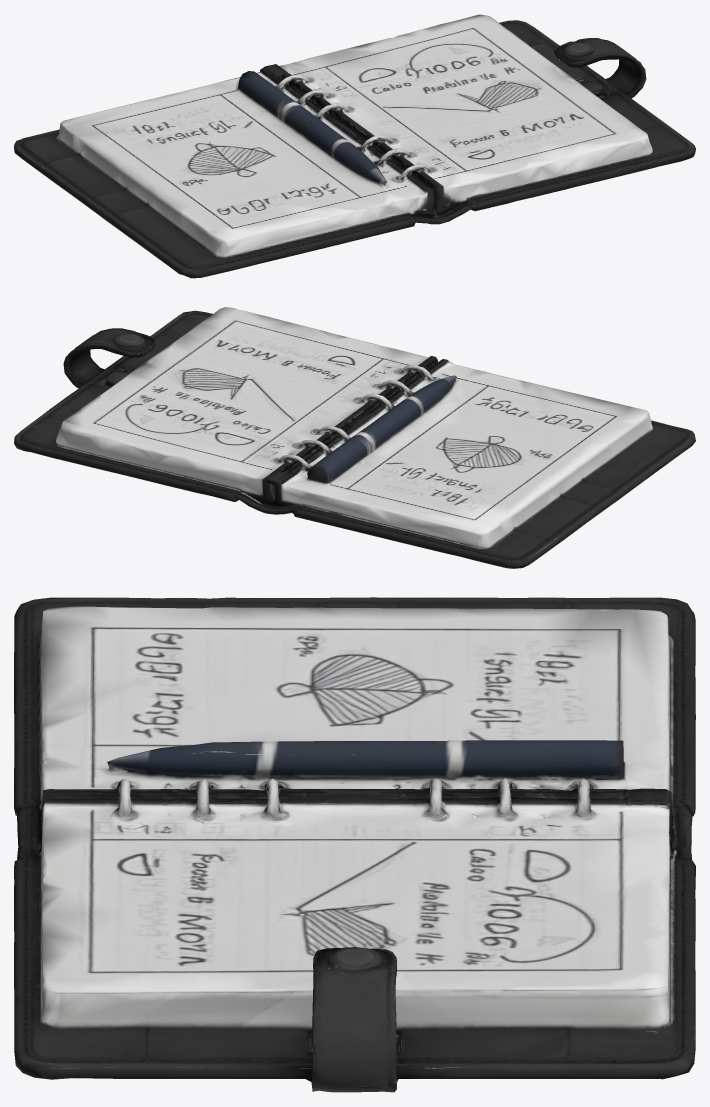
The model's file is ajandabake.fbx.
The picture shows the model from 3 angles, top to bottom: view 1: azimuth 30°, elevation 25°; view 2: azimuth 150°, elevation 25°; view 3: azimuth 270°, elevation 25°; orthographic projection. The views are drawn at different scales.
Visible parts, largest first — view 1: ajanda_low; view 2: ajanda_low; view 3: ajanda_low.
Boxes of the visible parts, left/top/right/bottom form: ajanda_low: left=14, top=14, right=695, bottom=278; ajanda_low: left=14, top=307, right=695, bottom=568; ajanda_low: left=14, top=597, right=695, bottom=1092.
Bounding box in the file's own units: 1.91 × 0.2077 × 1.12.
